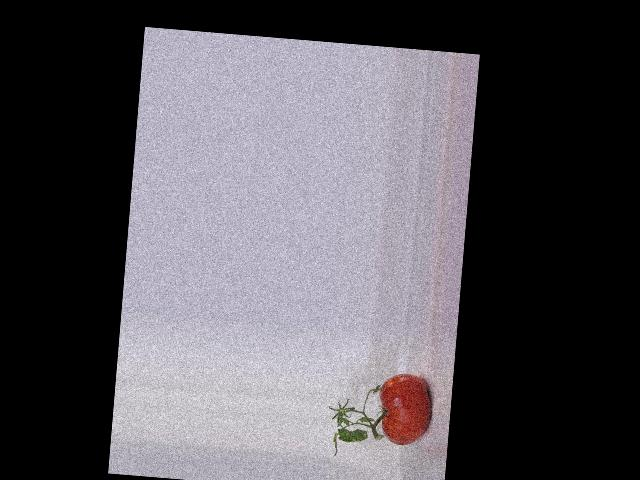tomato: (376, 371, 434, 447)
